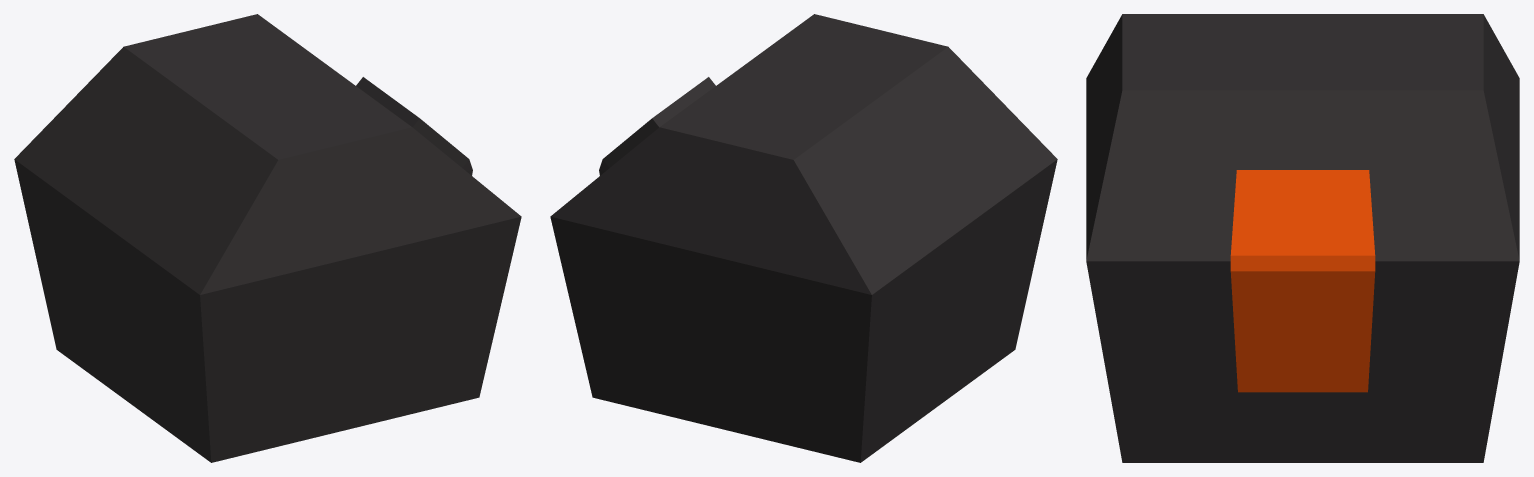
Rendered from ChestTile.fbx.
The picture shows the model from 3 angles, left to right: view 1: azimuth 30°, elevation 25°; view 2: azimuth 150°, elevation 25°; view 3: azimuth 270°, elevation 25°; orthographic projection. The views are drawn at different scales.
Visible parts, largest first — view 1: Cube; view 2: Cube; view 3: Cube.
Boxes of the visible parts, left/top/right/bottom form: Cube: left=14, top=14, right=521, bottom=462; Cube: left=550, top=14, right=1057, bottom=462; Cube: left=1086, top=14, right=1519, bottom=462.
Size of the model in its own units: 250 by 204 by 240.
